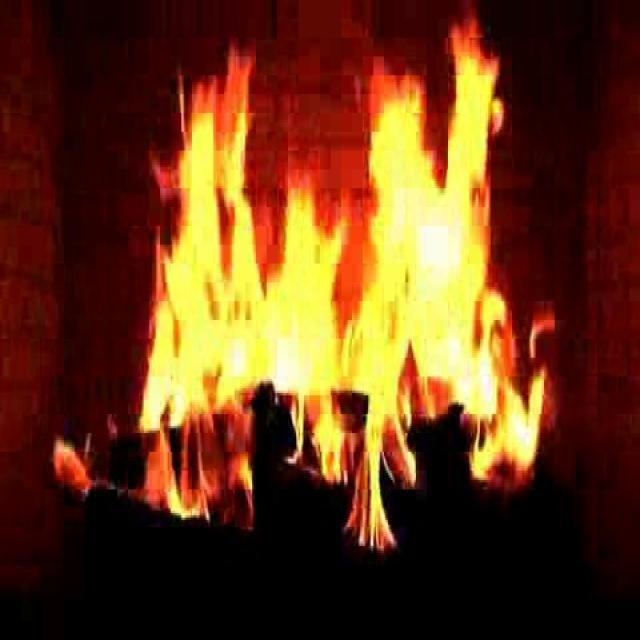Fire: (158, 156, 526, 486)
